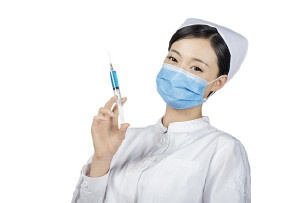Mask: (154, 46, 215, 106)
